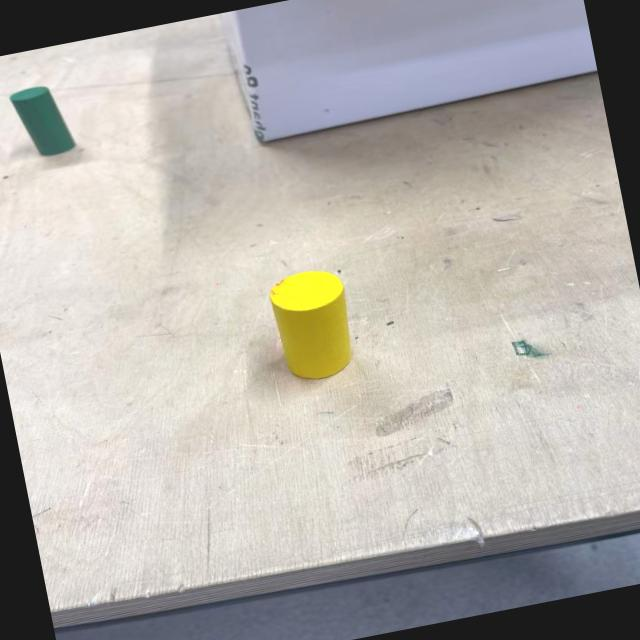yellow_cylinder: (266, 264, 360, 386)
